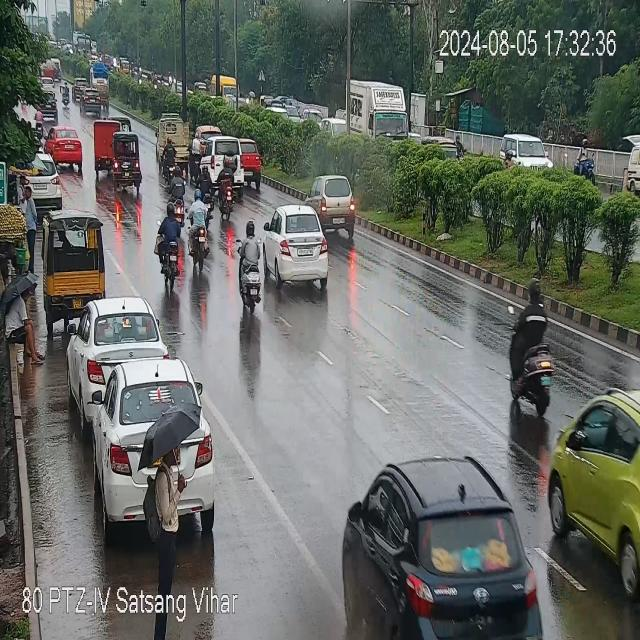2-wheelers: (510, 279, 550, 412), (237, 220, 266, 317), (157, 206, 185, 289), (189, 197, 212, 269), (576, 136, 600, 180), (219, 160, 231, 214), (163, 170, 183, 200), (161, 134, 175, 167)
auto: (42, 218, 106, 297), (114, 132, 147, 192), (94, 120, 121, 176)
car: (340, 461, 543, 640), (103, 364, 217, 532), (553, 404, 640, 593), (83, 297, 163, 435), (266, 201, 322, 277), (314, 174, 358, 238), (504, 127, 558, 174), (202, 135, 247, 190), (47, 123, 85, 166), (240, 135, 262, 190), (628, 130, 640, 196), (81, 90, 100, 115)
pedestrian: (154, 449, 182, 633), (10, 290, 37, 370), (24, 153, 61, 206), (20, 188, 38, 276)
